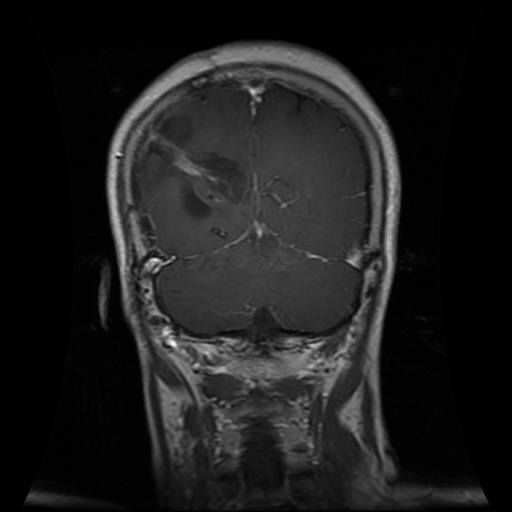glioma: (135, 106, 249, 222)
